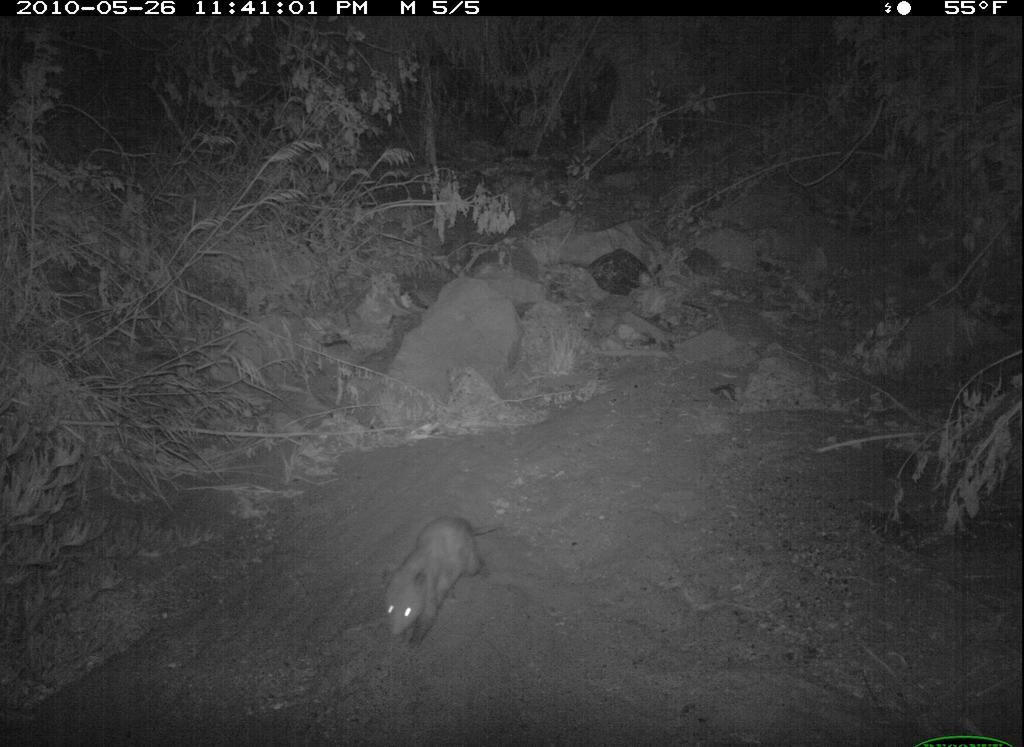opossum: (355, 497, 548, 667)
